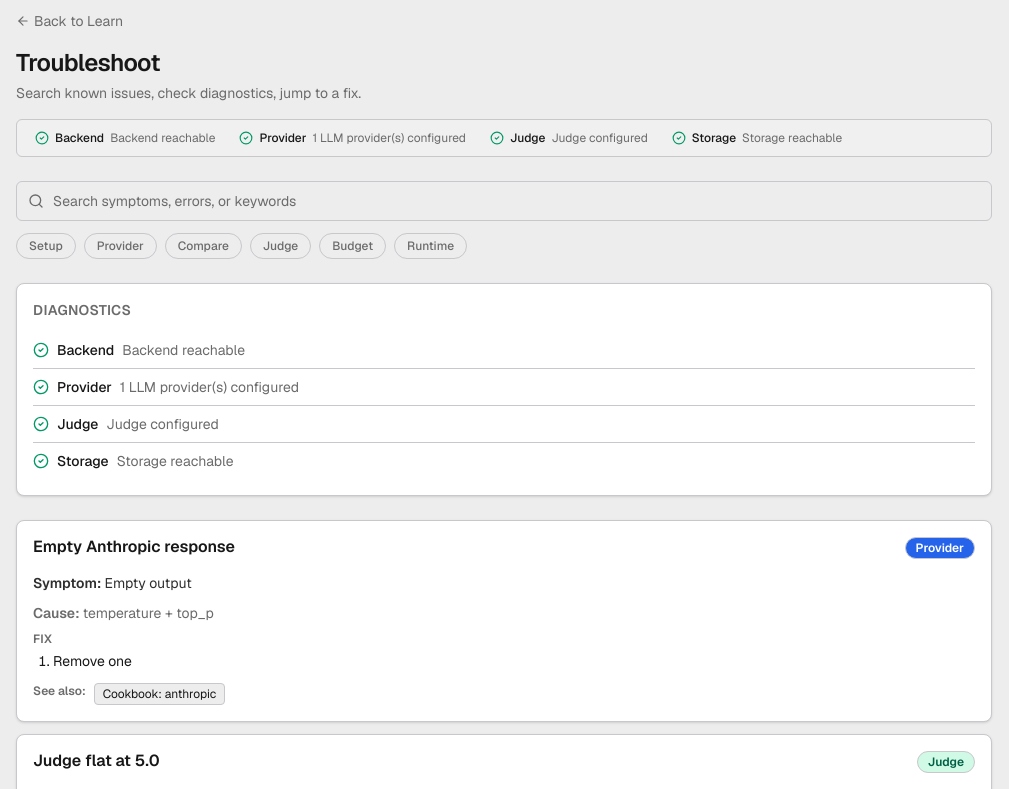
Test: TroubleshootPage › quick-filter chip narrows results by category
Click the button "Judge".
click(281, 246)  # box [250,233,311,259]
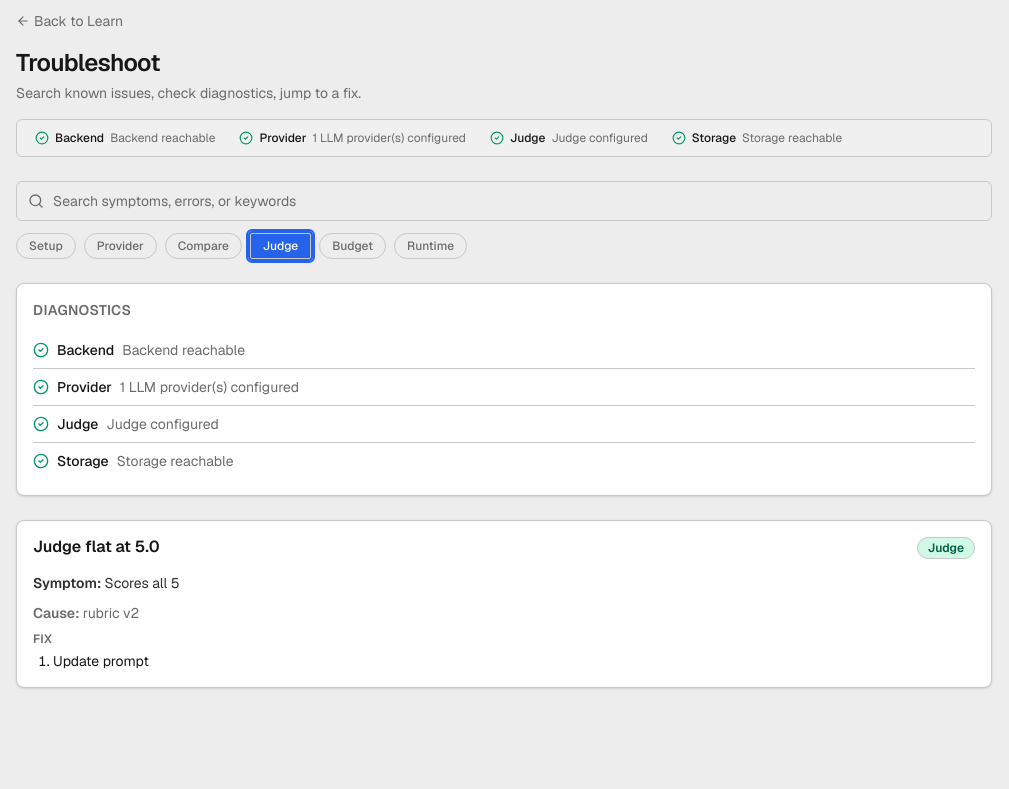
Expected: the heading "Judge flat at 5.0" is shown, [33,537,160,557]
Expected: the heading "Empty Anthropic response" is gone
